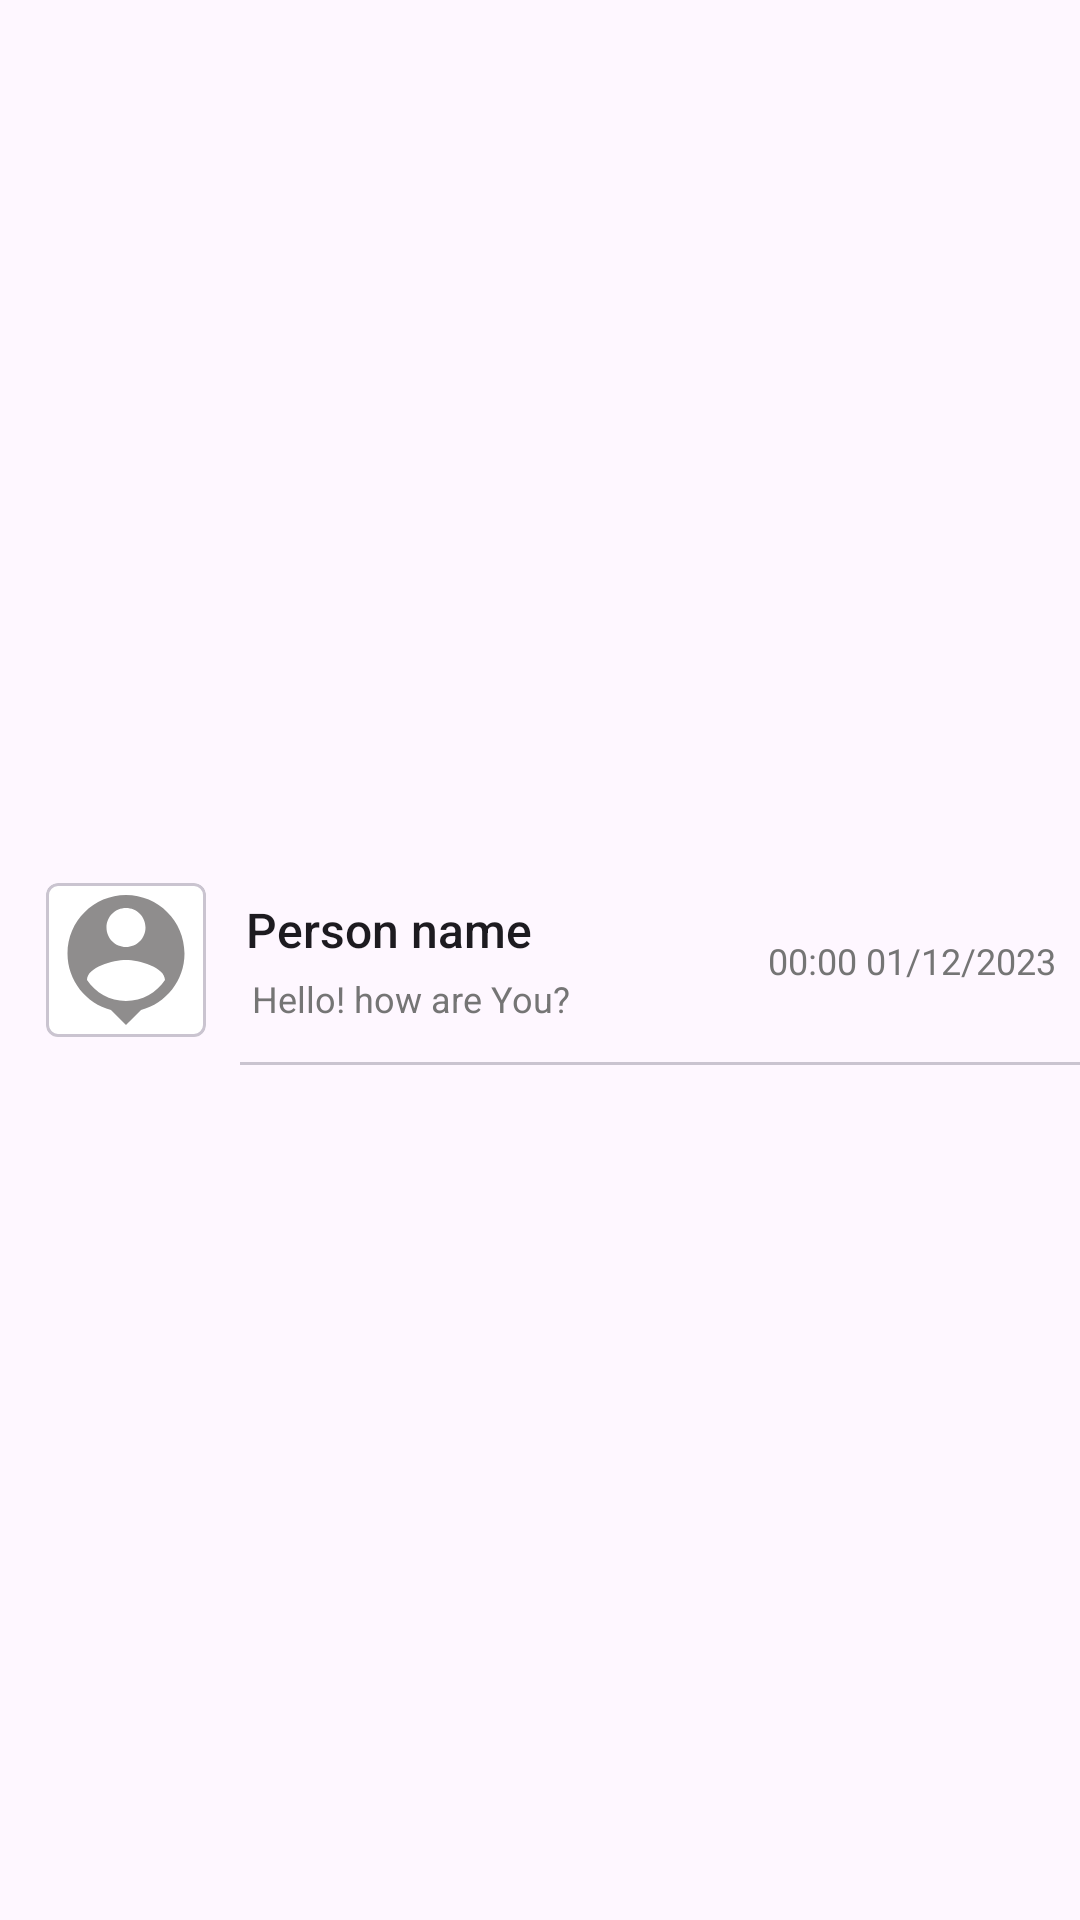

Locate icon controls on the screen. Image size 1080×1920, boxes as (x1, y1, x2, y2).
person pin: (49, 886, 203, 1034)
